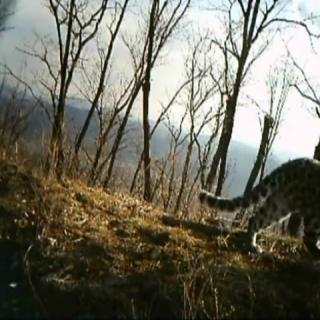Leopard: (220, 123, 320, 246)
